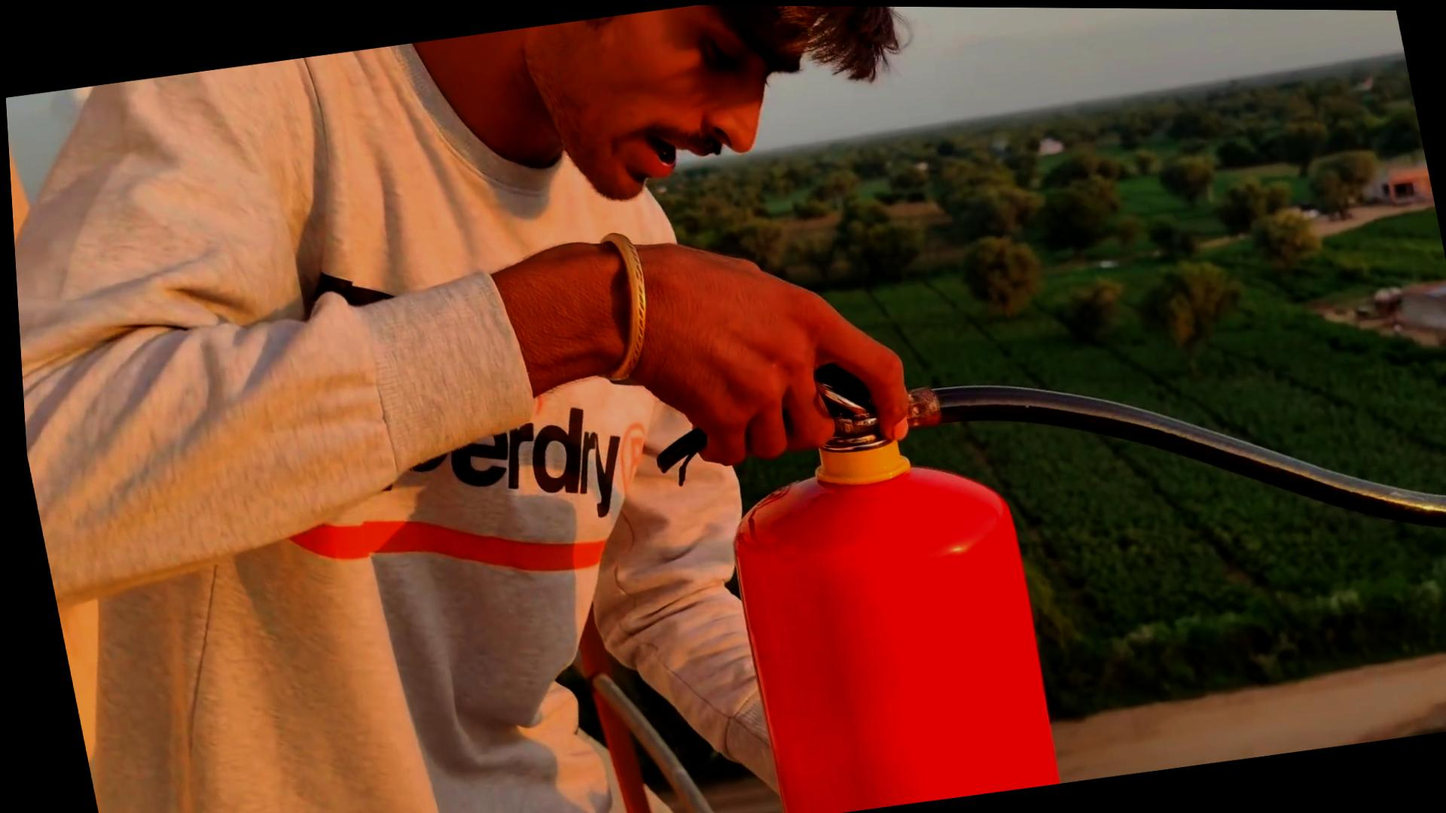FireExtinguisher: (640, 330, 1088, 813)
